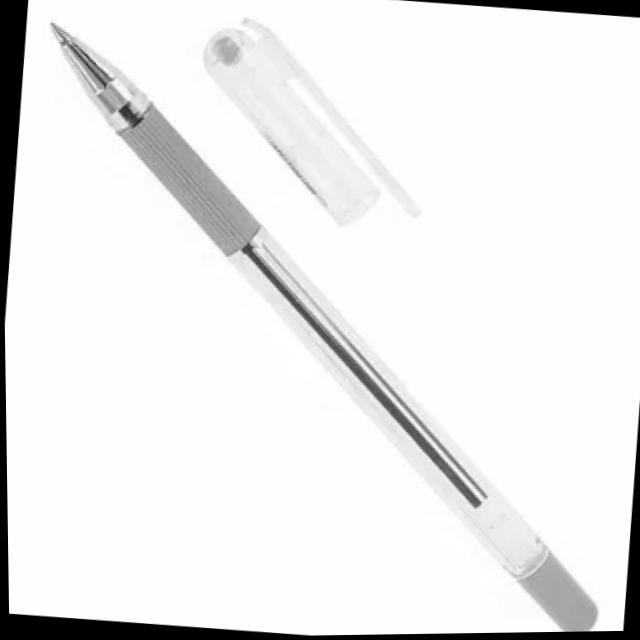pen: (0, 10, 640, 640)
